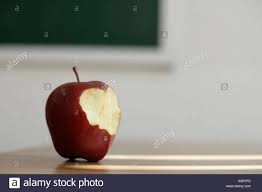damaged_apple: (44, 80, 122, 162)
